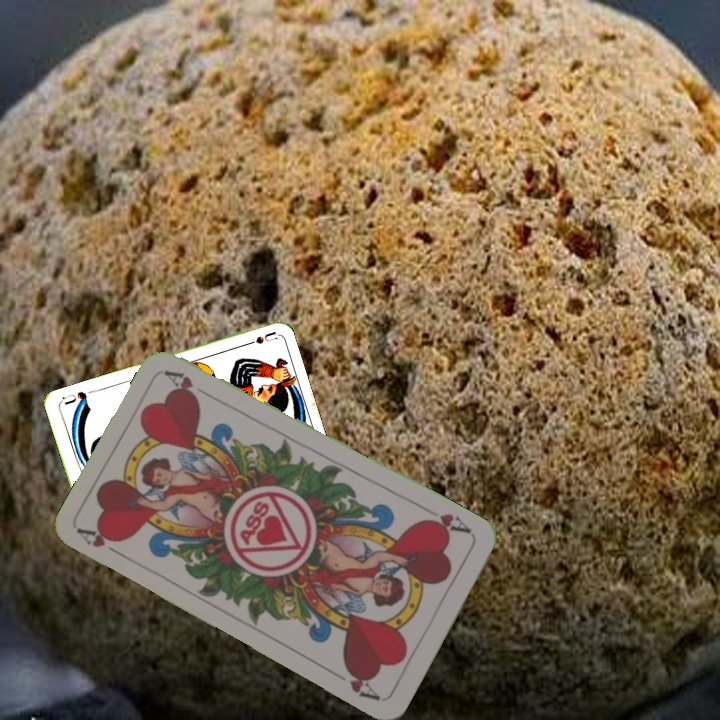HA: (75, 523, 129, 561), (418, 503, 474, 538)
SU: (238, 328, 279, 349)
